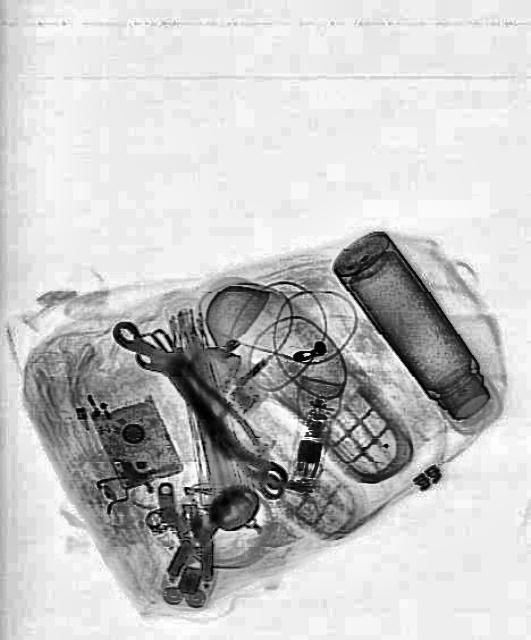Wrench: (107, 314, 292, 496)
